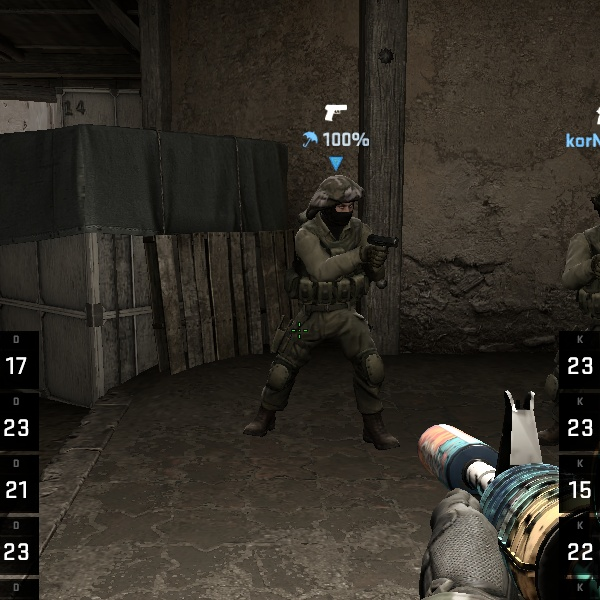ct_body: (256, 170, 406, 447)
ct_head: (309, 174, 368, 233)
